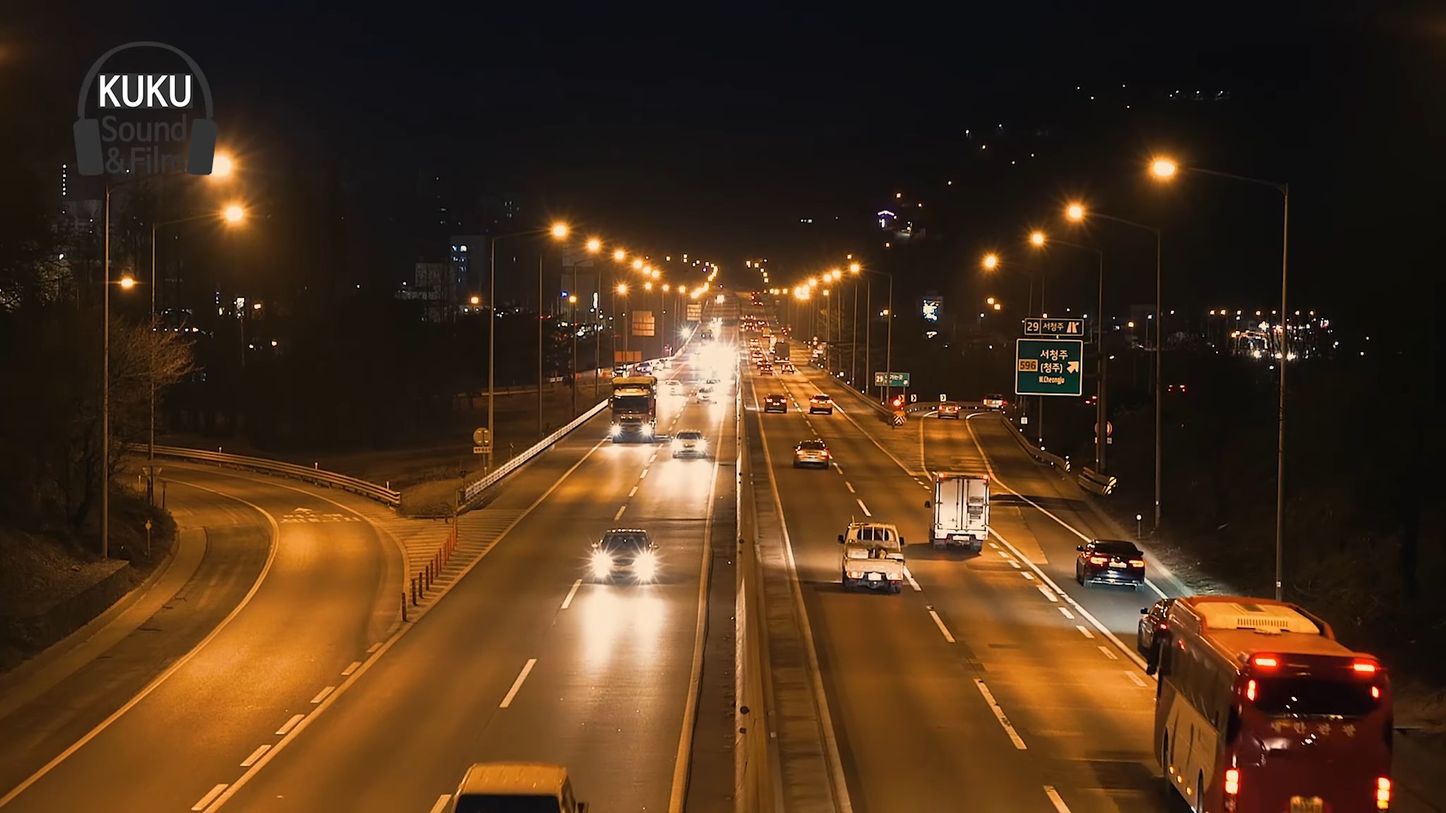car: (1147, 588, 1409, 813), (590, 524, 660, 593), (1077, 540, 1150, 596)
truck: (833, 516, 914, 597), (925, 464, 993, 556)
